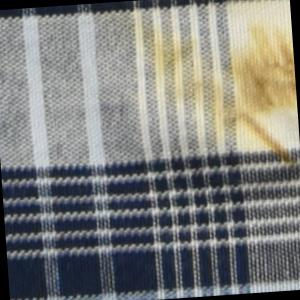Oil Stain: (108, 1, 300, 189)
